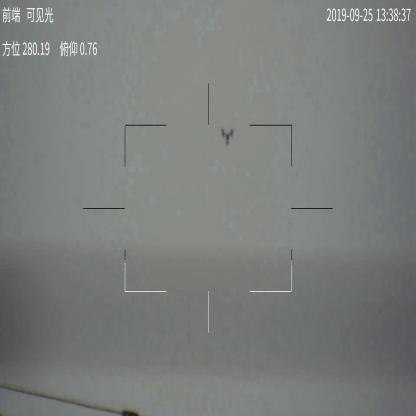uav: (219, 128, 235, 152)
